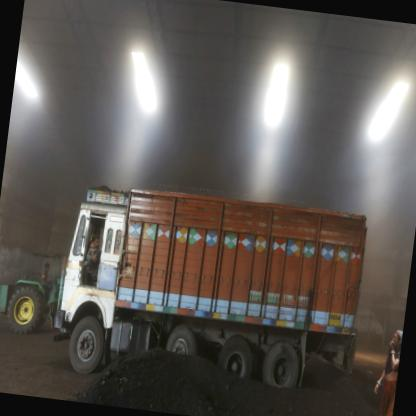truck: (48, 179, 368, 412)
